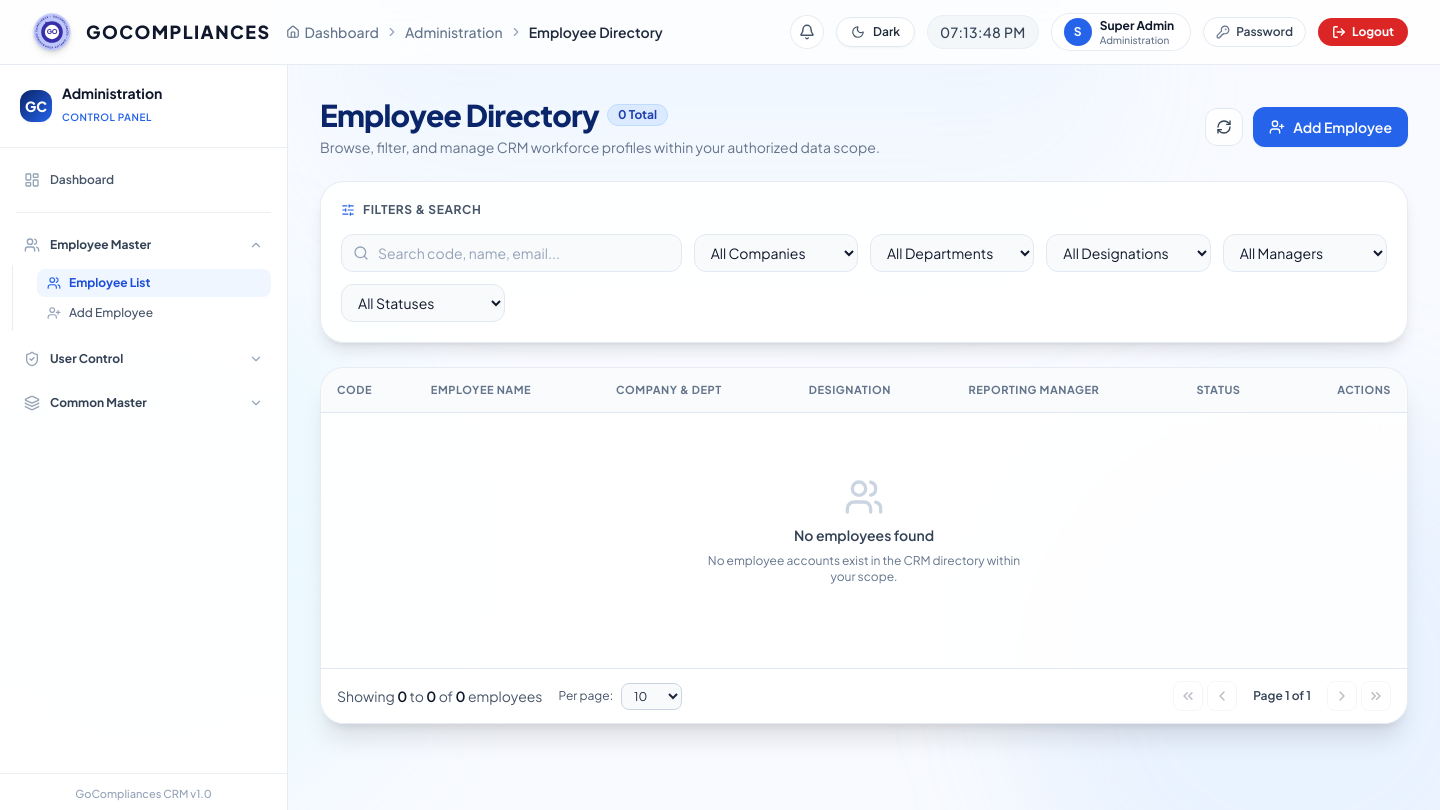
Test: Admin Module Layout & Collapsible Sidebar Routing › renders persistent sidebar with navigation groups on Admin routes
Expected: the heading "Administration" is shown, [62,85,162,102]
Expected: the text "Control Panel" is shown, [62,110,152,122]
Expand User Control to view its child links
Step 1. Click the button "User Control" → (87, 358), box [12,342,275,374]
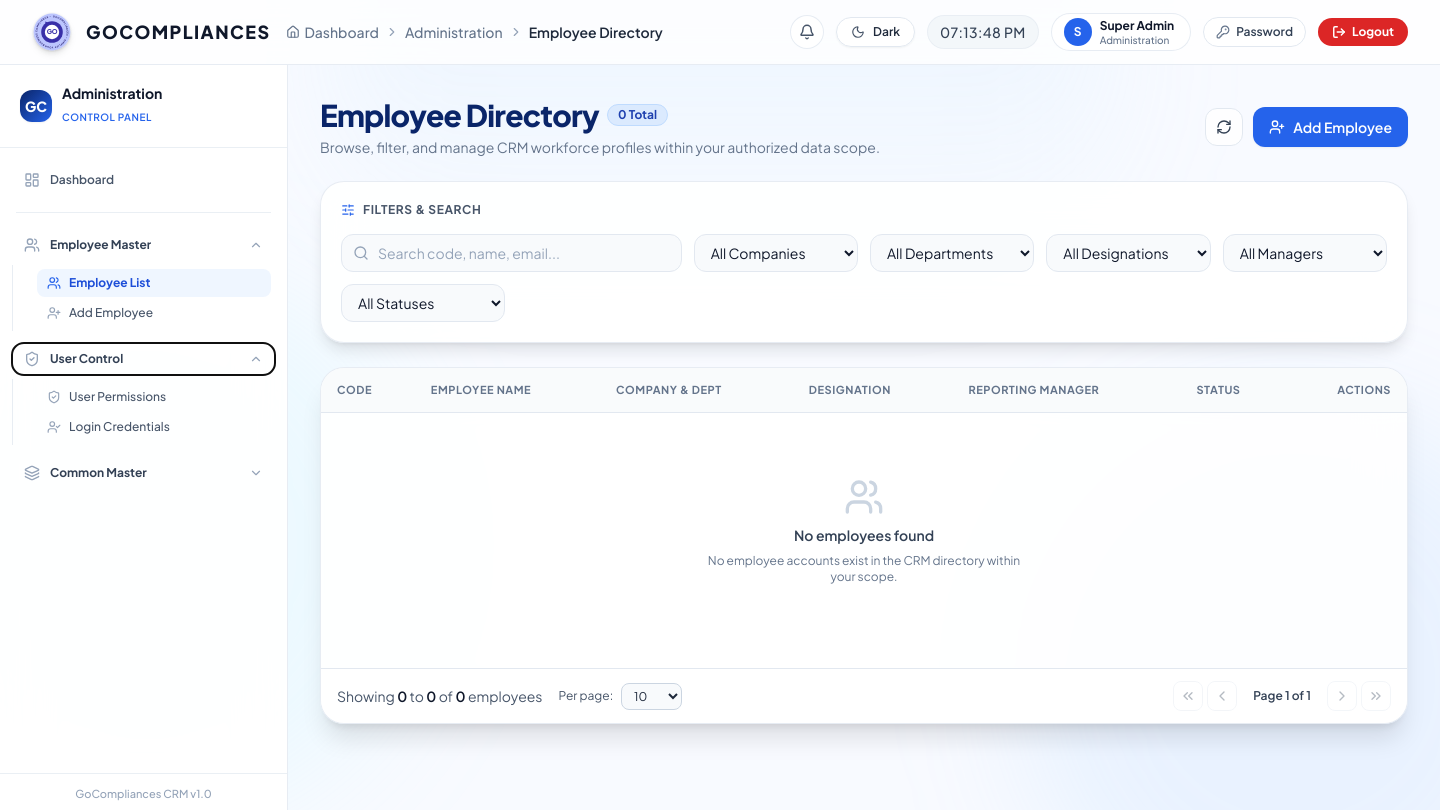
Expected: the link "User Permissions" is shown, [47,388,166,404]
Expected: the link "Login Credentials" is shown, [47,418,170,434]
